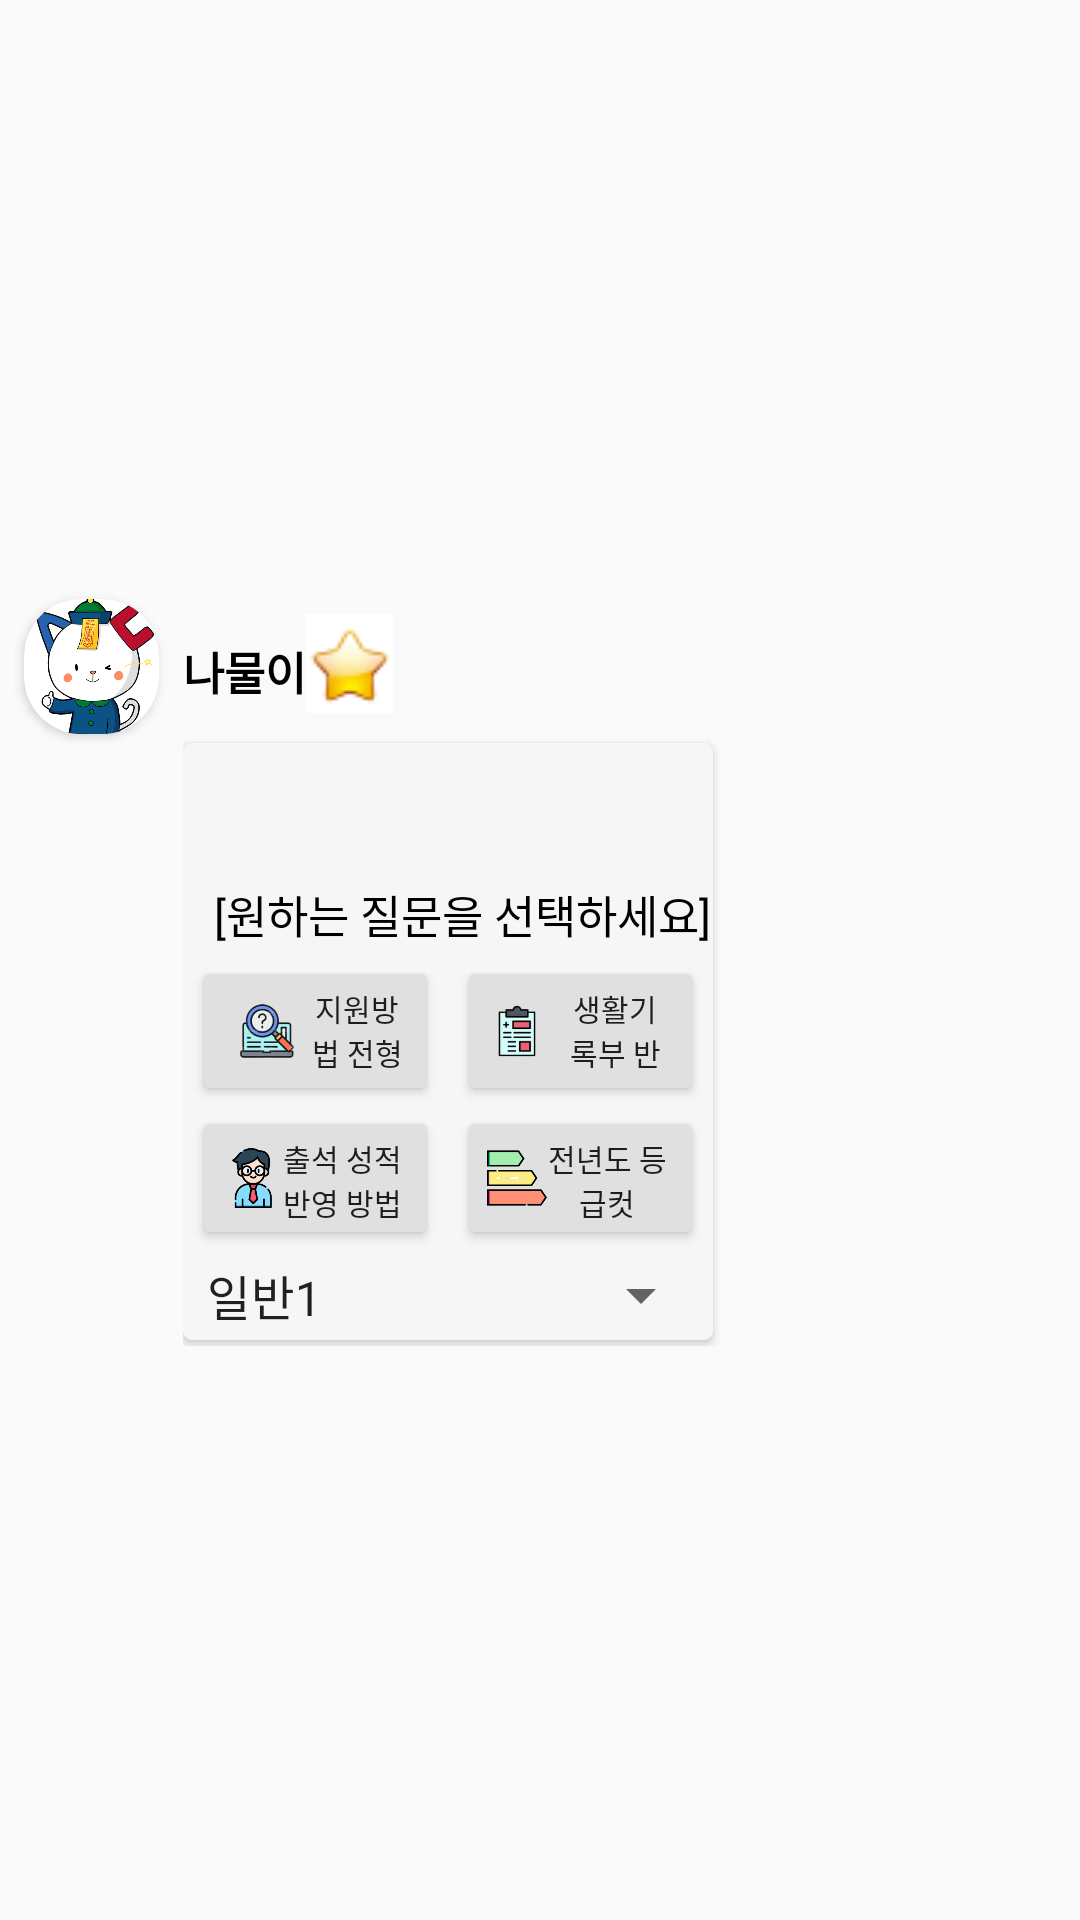

Screen size 1080x1920. Icon name, then its center in pixels as [x,y]:
staron: [350,665]
